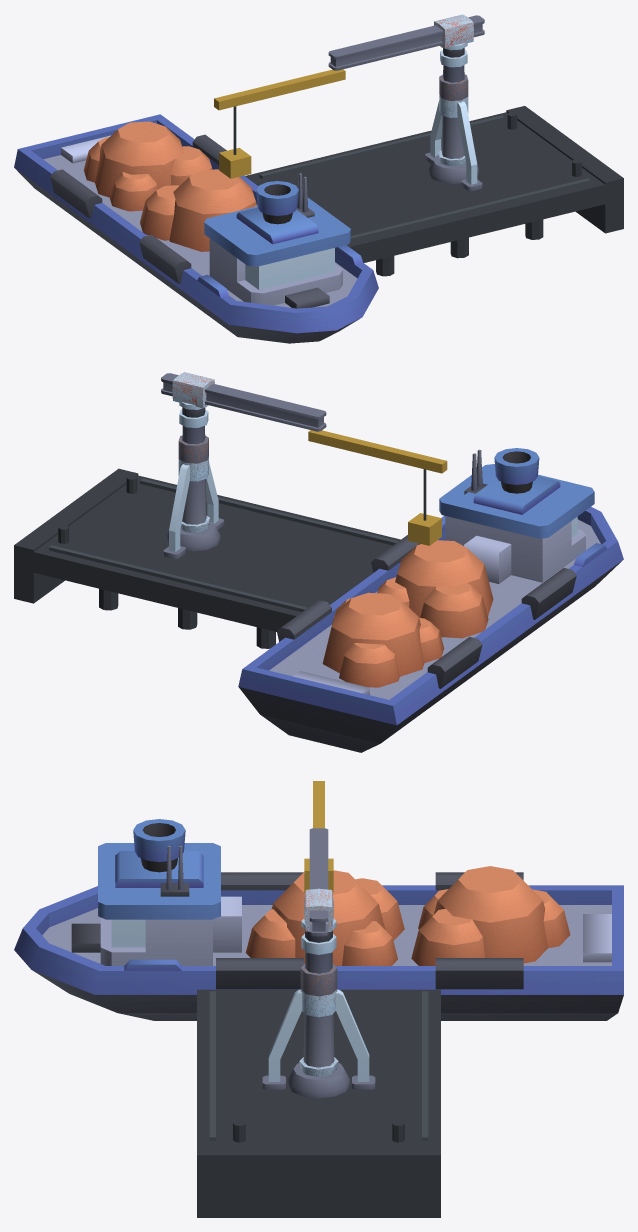
File: jetty_pier.glb
The picture shows the model from 3 angles, top to bottom: view 1: azimuth 30°, elevation 25°; view 2: azimuth 150°, elevation 25°; view 3: azimuth 270°, elevation 25°; orthographic projection. The views are drawn at different scales.
Visible parts, largest first — view 1: ship-cargo-b, pier_deck, cargo-b, cargo-a, crane, arm, quay_edge, boom_extension, crane_rail_2.0, crane_rail_-2.0, crane_grab; view 2: ship-cargo-b, pier_deck, cargo-b, cargo-a, crane, arm, quay_edge, boom_extension, crane_rail_-2.0, crane_rail_2.0, crane_grab; view 3: ship-cargo-b, pier_deck, quay_edge, cargo-b, crane, cargo-a, arm, crane_rail_2.0, crane_rail_-2.0.
Boxes of the visible parts, left/top/right/bottom form: ship-cargo-b: left=14, top=114, right=378, bottom=343; pier_deck: left=245, top=112, right=605, bottom=262; cargo-b: left=83, top=121, right=212, bottom=211; cargo-a: left=140, top=169, right=256, bottom=251; crane: left=425, top=48, right=482, bottom=191; arm: left=328, top=14, right=484, bottom=70; quay_edge: left=506, top=106, right=623, bottom=233; boom_extension: left=214, top=69, right=345, bottom=110; crane_rail_2.0: left=350, top=178, right=590, bottom=241; crane_rail_-2.0: left=259, top=115, right=504, bottom=179; crane_grab: left=219, top=147, right=251, bottom=178; ship-cargo-b: left=238, top=448, right=623, bottom=752; pier_deck: left=33, top=475, right=400, bottom=631; cargo-b: left=322, top=592, right=444, bottom=687; cargo-a: left=377, top=540, right=493, bottom=638; crane: left=163, top=407, right=224, bottom=558; arm: left=161, top=372, right=326, bottom=431; quay_edge: left=14, top=468, right=138, bottom=603; boom_extension: left=308, top=430, right=447, bottom=473; crane_rail_-2.0: left=49, top=545, right=307, bottom=611; crane_rail_2.0: left=140, top=478, right=398, bottom=545; crane_grab: left=408, top=513, right=441, bottom=545; ship-cargo-b: left=14, top=819, right=623, bottom=1020; pier_deck: left=197, top=989, right=440, bottom=1144; quay_edge: left=197, top=1144, right=440, bottom=1217; cargo-b: left=411, top=866, right=570, bottom=965; crane: left=262, top=930, right=375, bottom=1098; cargo-a: left=245, top=870, right=404, bottom=965; arm: left=301, top=828, right=336, bottom=936; crane_rail_2.0: left=209, top=991, right=215, bottom=1140; crane_rail_-2.0: left=422, top=991, right=428, bottom=1140.
Size of the model in its own units: 11.83 by 5.16 by 11.5.
Materials: 6 (2 with a texture image).
